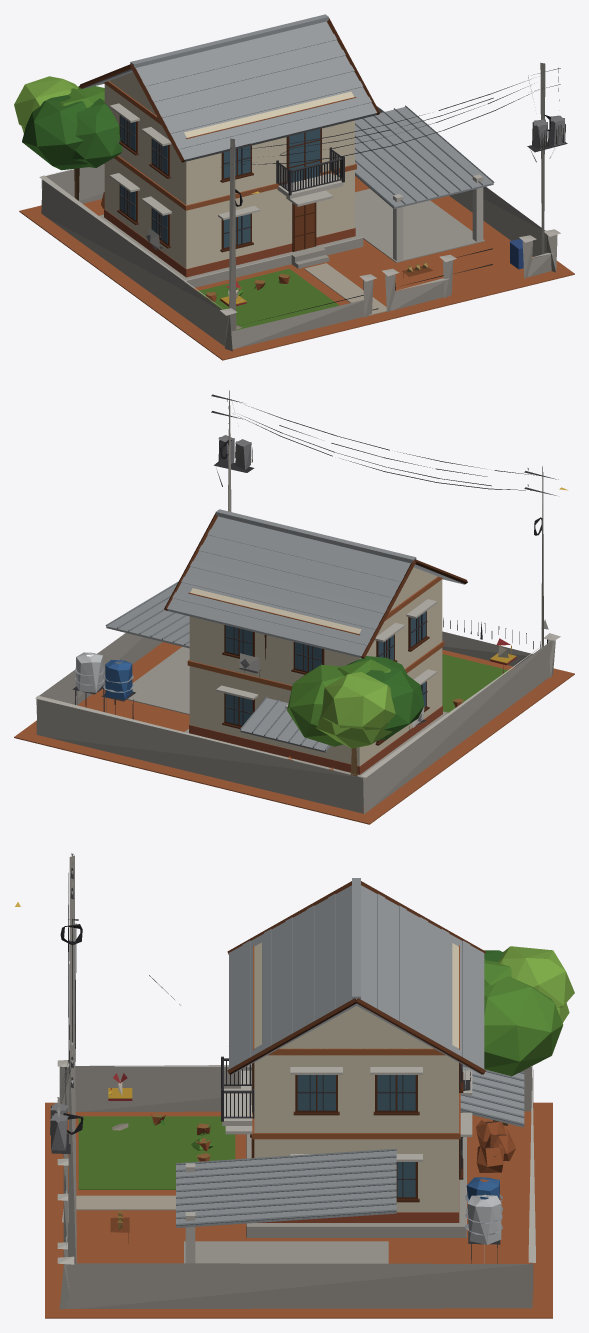
File: home_2.glb
3 renders of one model, top to bottom at view 1: azimuth 30°, elevation 25°; view 2: azimuth 150°, elevation 25°; view 3: azimuth 270°, elevation 25°, orthographic. The views are drawn at different scales.
Parts seen in each view (by area): view 1: body, windows; view 2: body, windows; view 3: body, windows.
Boxes of the visible parts, <box> form: body: <box>14,14,574,360</box>; windows: <box>120,115,320,247</box>; body: <box>14,390,574,824</box>; windows: <box>225,487,568,740</box>; body: <box>45,853,574,1318</box>; windows: <box>15,902,460,1197</box>.
Bounding box in the file's own units: 16.73 × 9.31 × 17.56.
